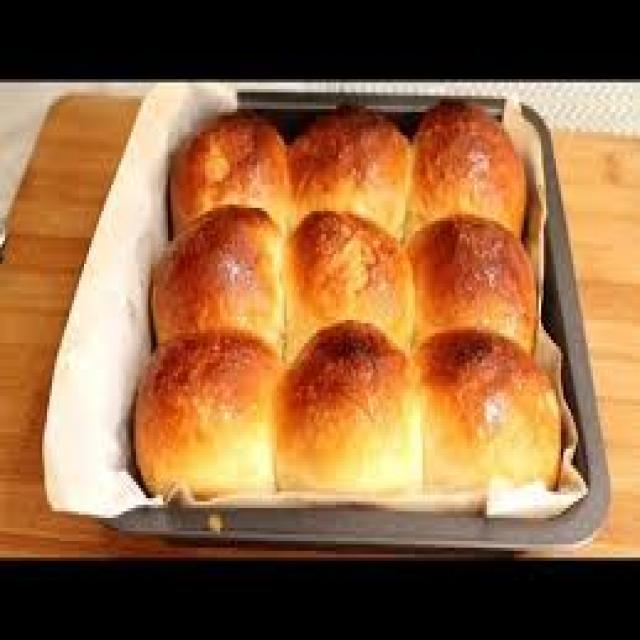organic waste: (126, 326, 279, 494), (415, 327, 559, 498), (274, 316, 413, 492), (148, 202, 284, 346), (405, 214, 536, 353), (282, 201, 408, 343), (286, 99, 408, 224), (410, 99, 524, 231), (166, 109, 284, 228)
